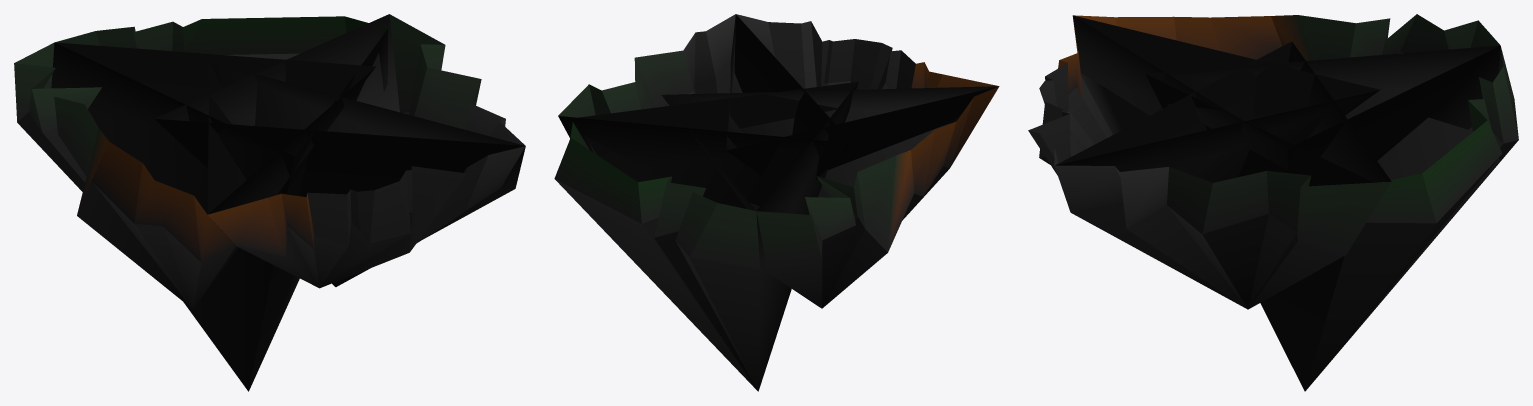
File: c_underearth.fbx
3 renders of one model, left to right at view 1: azimuth 30°, elevation 25°; view 2: azimuth 150°, elevation 25°; view 3: azimuth 270°, elevation 25°, orthographic. The views are drawn at different scales.
Parts seen in each view (by area): view 1: c_underearth; view 2: c_underearth; view 3: c_underearth.
Boxes of the visible parts, x1,y1,x2,y2 form: c_underearth: [14, 14, 525, 391]; c_underearth: [554, 14, 999, 391]; c_underearth: [1028, 14, 1518, 391].
Bounding box in the file's own units: 576 × 462 × 679.
